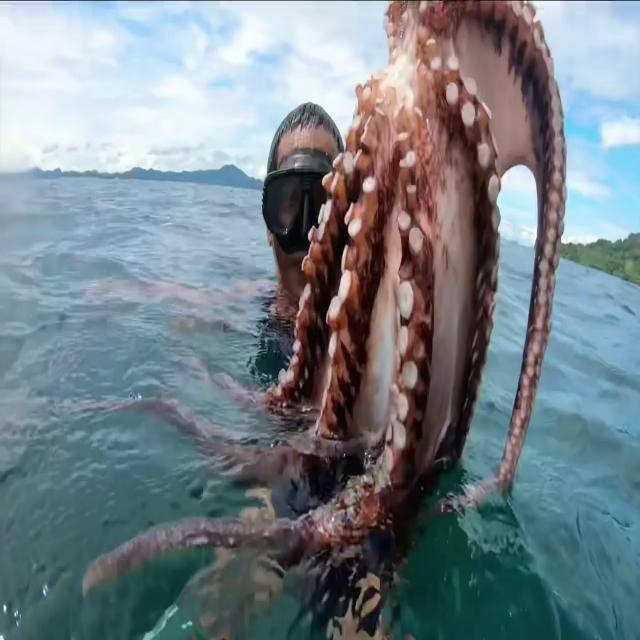octopus: (78, 0, 568, 640)
